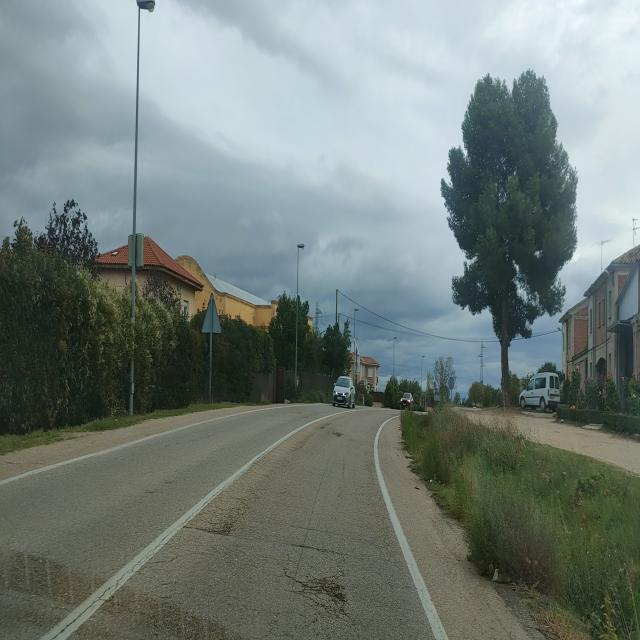Poth-hole: (275, 543, 356, 632), (188, 490, 251, 543), (331, 422, 347, 442)
